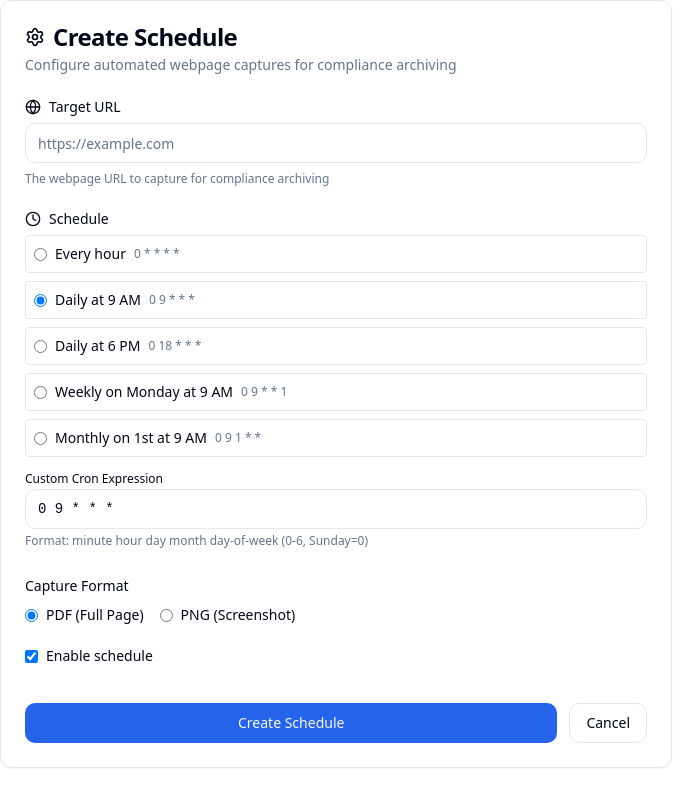
Scenario: ScheduleForm › allows selection of different cron presets
Click the radio button labelled "Every hour 0 * * * *" at (40, 254), box left=34, top=248, right=47, bottom=260
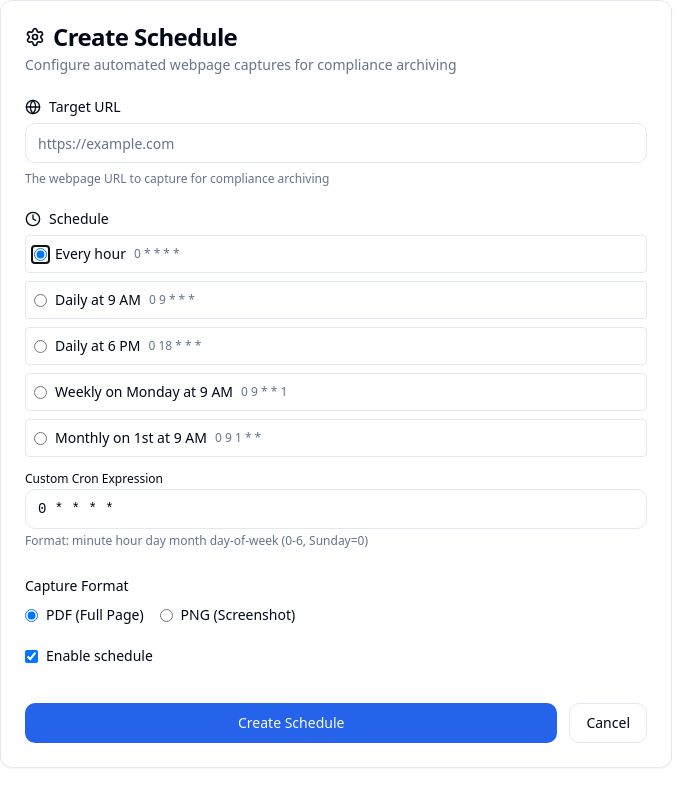
expect the field labelled "Custom Cron Expression" holds "0 * * * *": met, box left=25, top=489, right=647, bottom=529
